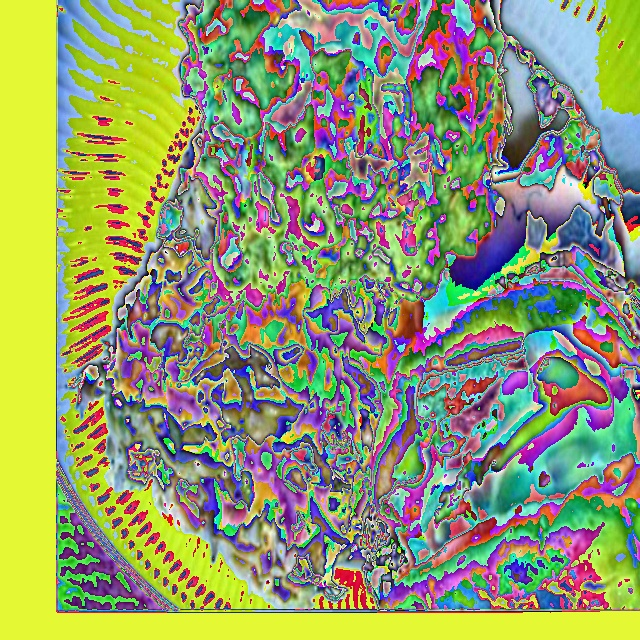background: (78, 0, 639, 610)
